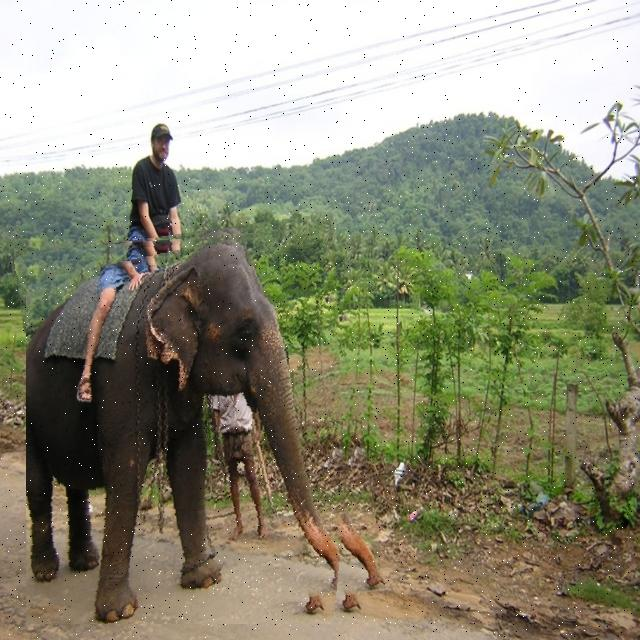elephant: (26, 223, 372, 624)
